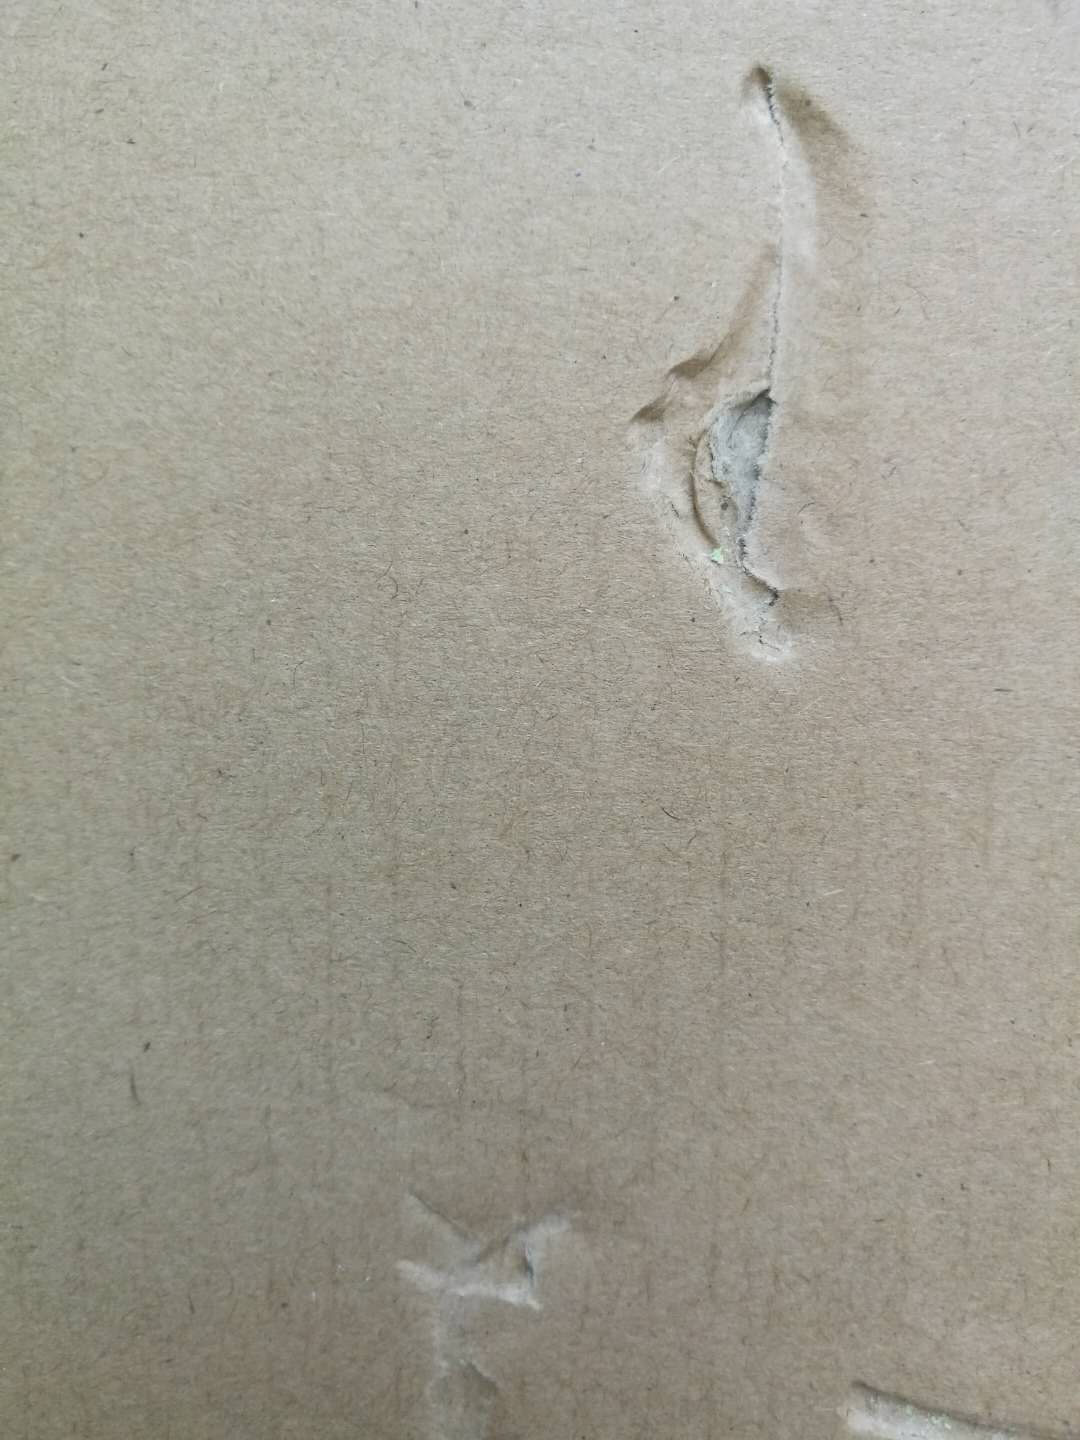defect: (600, 29, 923, 695), (371, 1140, 622, 1438), (817, 1350, 1080, 1438)
